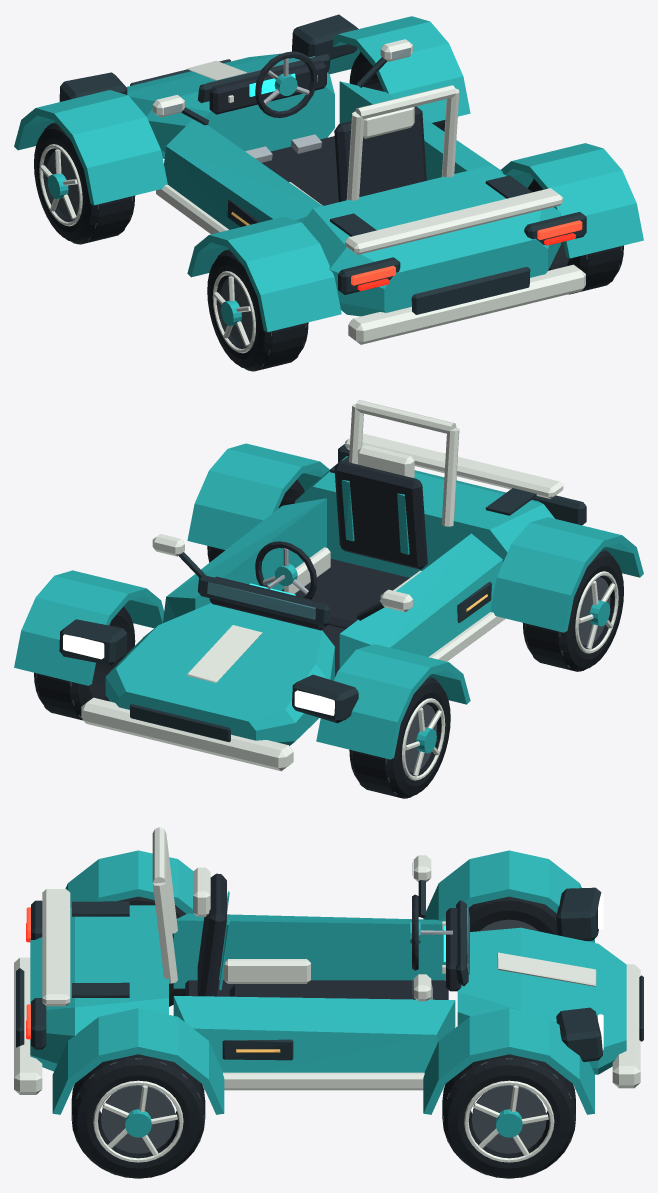
Rendered from pulse_lod0.glb.
The picture shows the model from 3 angles, top to bottom: view 1: azimuth 30°, elevation 25°; view 2: azimuth 150°, elevation 25°; view 3: azimuth 270°, elevation 25°; orthographic projection. The views are drawn at different scales.
Visible parts, largest first — view 1: body_mesh, wheel_rl, wheel_fl, steering_wheel, wheel_rr, light_tail_mesh, wheel_fr; view 2: body_mesh, wheel_fl, wheel_rl, wheel_fr, steering_wheel, light_head_mesh; view 3: body_mesh, wheel_rr, wheel_fr, wheel_fl, steering_wheel, wheel_rl.
Part boxes in pixels (x1=…): body_mesh: x1=14, y1=14, x2=643, y2=344; wheel_rl: x1=207, y1=249, x2=308, y2=371; wheel_fl: x1=34, y1=122, x2=135, y2=244; steering_wheel: x1=255, y1=51, x2=317, y2=117; wheel_rr: x1=527, y1=178, x2=623, y2=294; light_tail_mesh: x1=351, y1=220, x2=582, y2=285; wheel_fr: x1=349, y1=51, x2=445, y2=131; body_mesh: x1=14, y1=400, x2=643, y2=771; wheel_fl: x1=349, y1=677, x2=450, y2=798; wheel_rl: x1=523, y1=550, x2=623, y2=671; wheel_fr: x1=34, y1=606, x2=135, y2=720; steering_wheel: x1=255, y1=541, x2=317, y2=599; light_head_mesh: x1=63, y1=634, x2=334, y2=715; body_mesh: x1=14, y1=827, x2=643, y2=1114; wheel_rr: x1=71, y1=1054, x2=205, y2=1178; wheel_fr: x1=442, y1=1054, x2=575, y2=1178; wheel_fl: x1=468, y1=896, x2=557, y2=935; steering_wheel: x1=410, y1=894, x2=420, y2=970; wheel_rl: x1=117, y1=896, x2=185, y2=1006.
Size of the model in its own units: 1.98 by 1.11 by 2.68.
